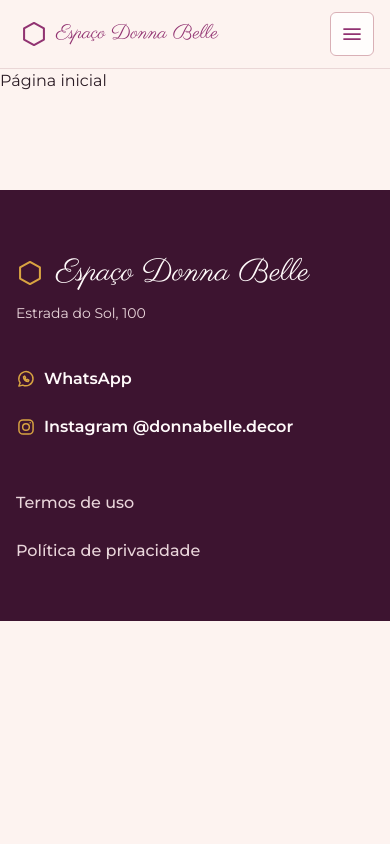
Test case: menu lateral › abre com as ações do site, cada uma com o seu destino
The image size is (390, 844).
Step 1. Click the button named "Menu" → (352, 34), box [330, 12, 374, 56]
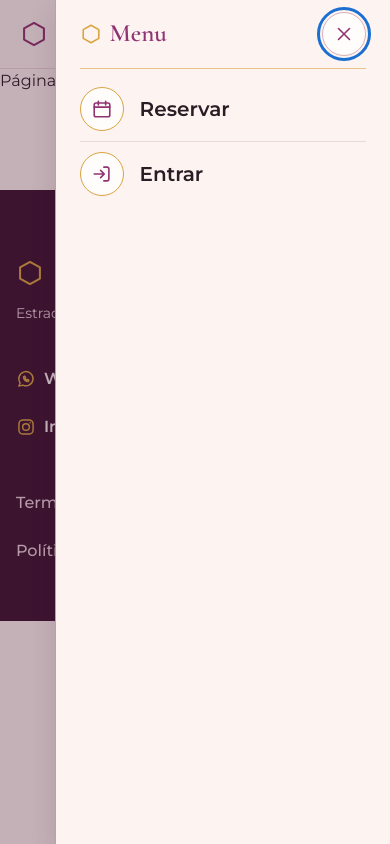
Check: the button named "Menu" is expanded, box [330, 12, 374, 56]
